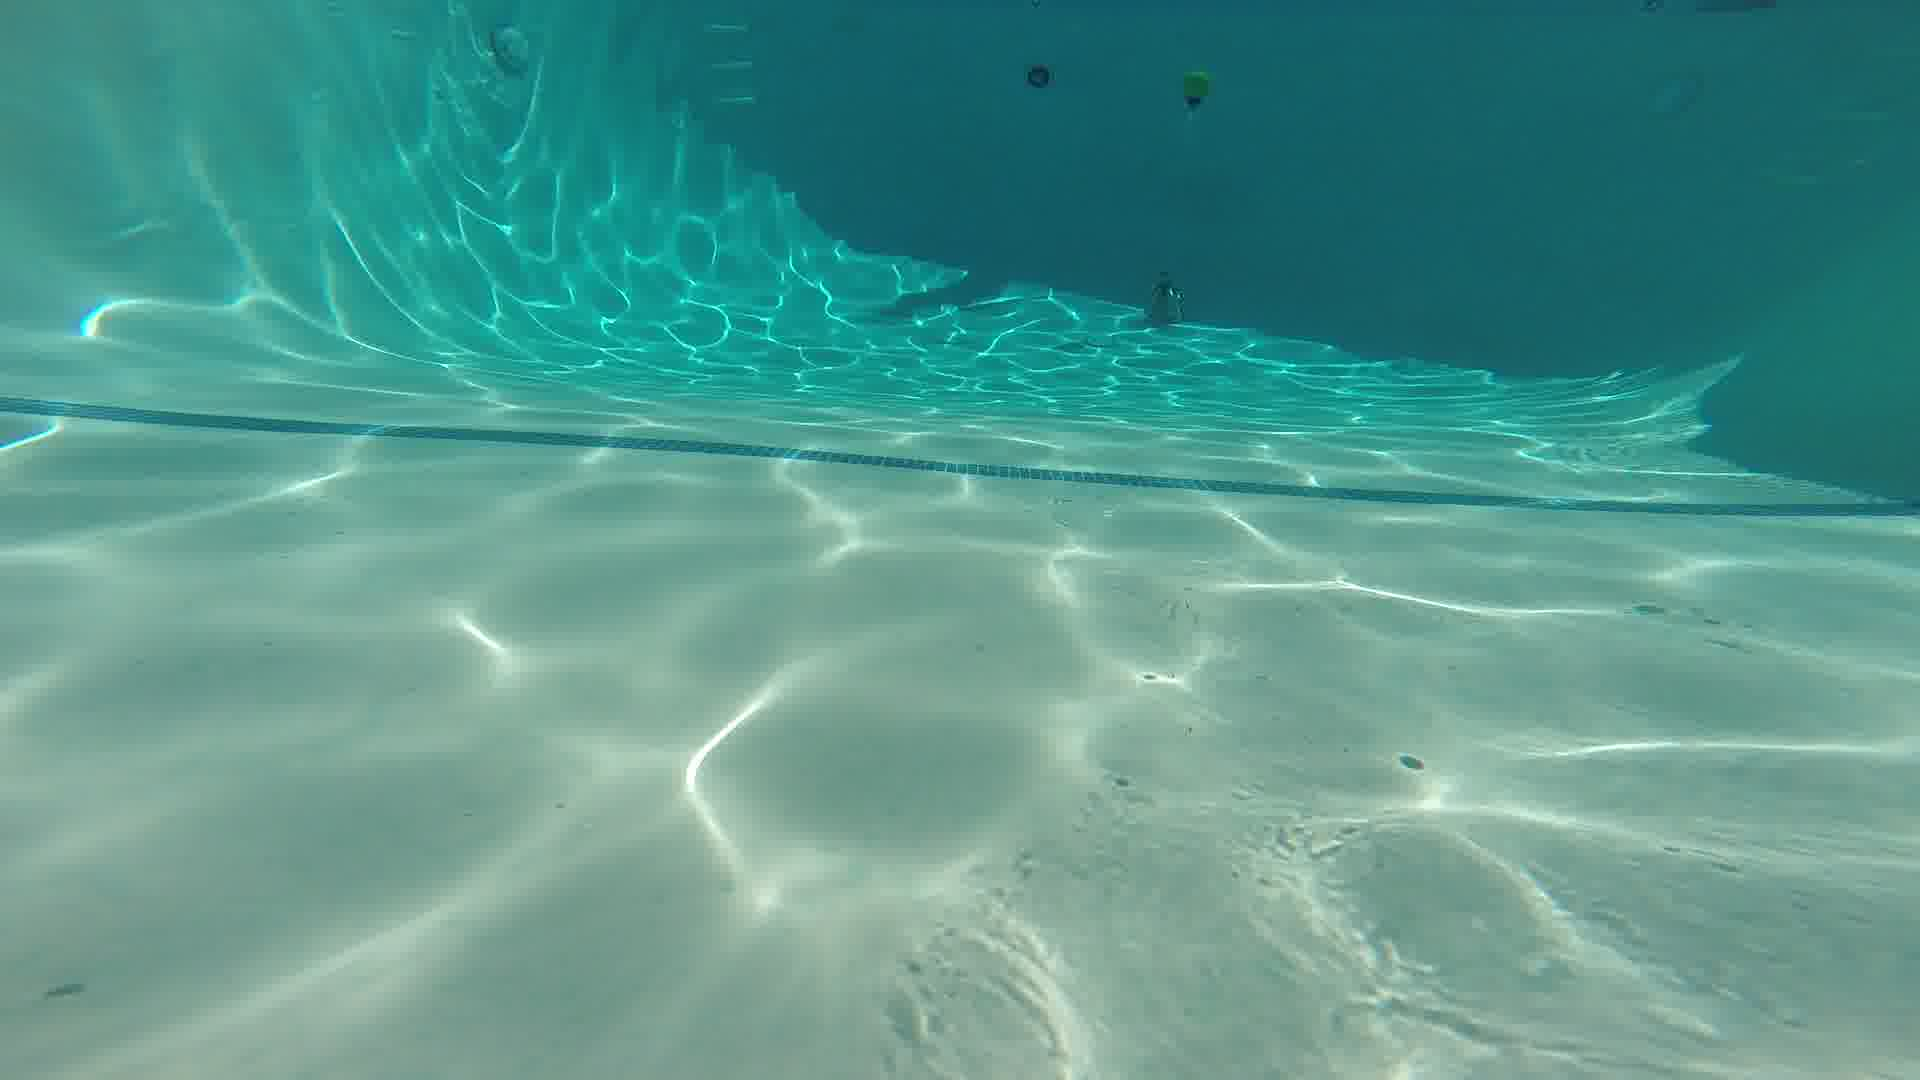yellow_buoy: (1184, 73, 1211, 109)
